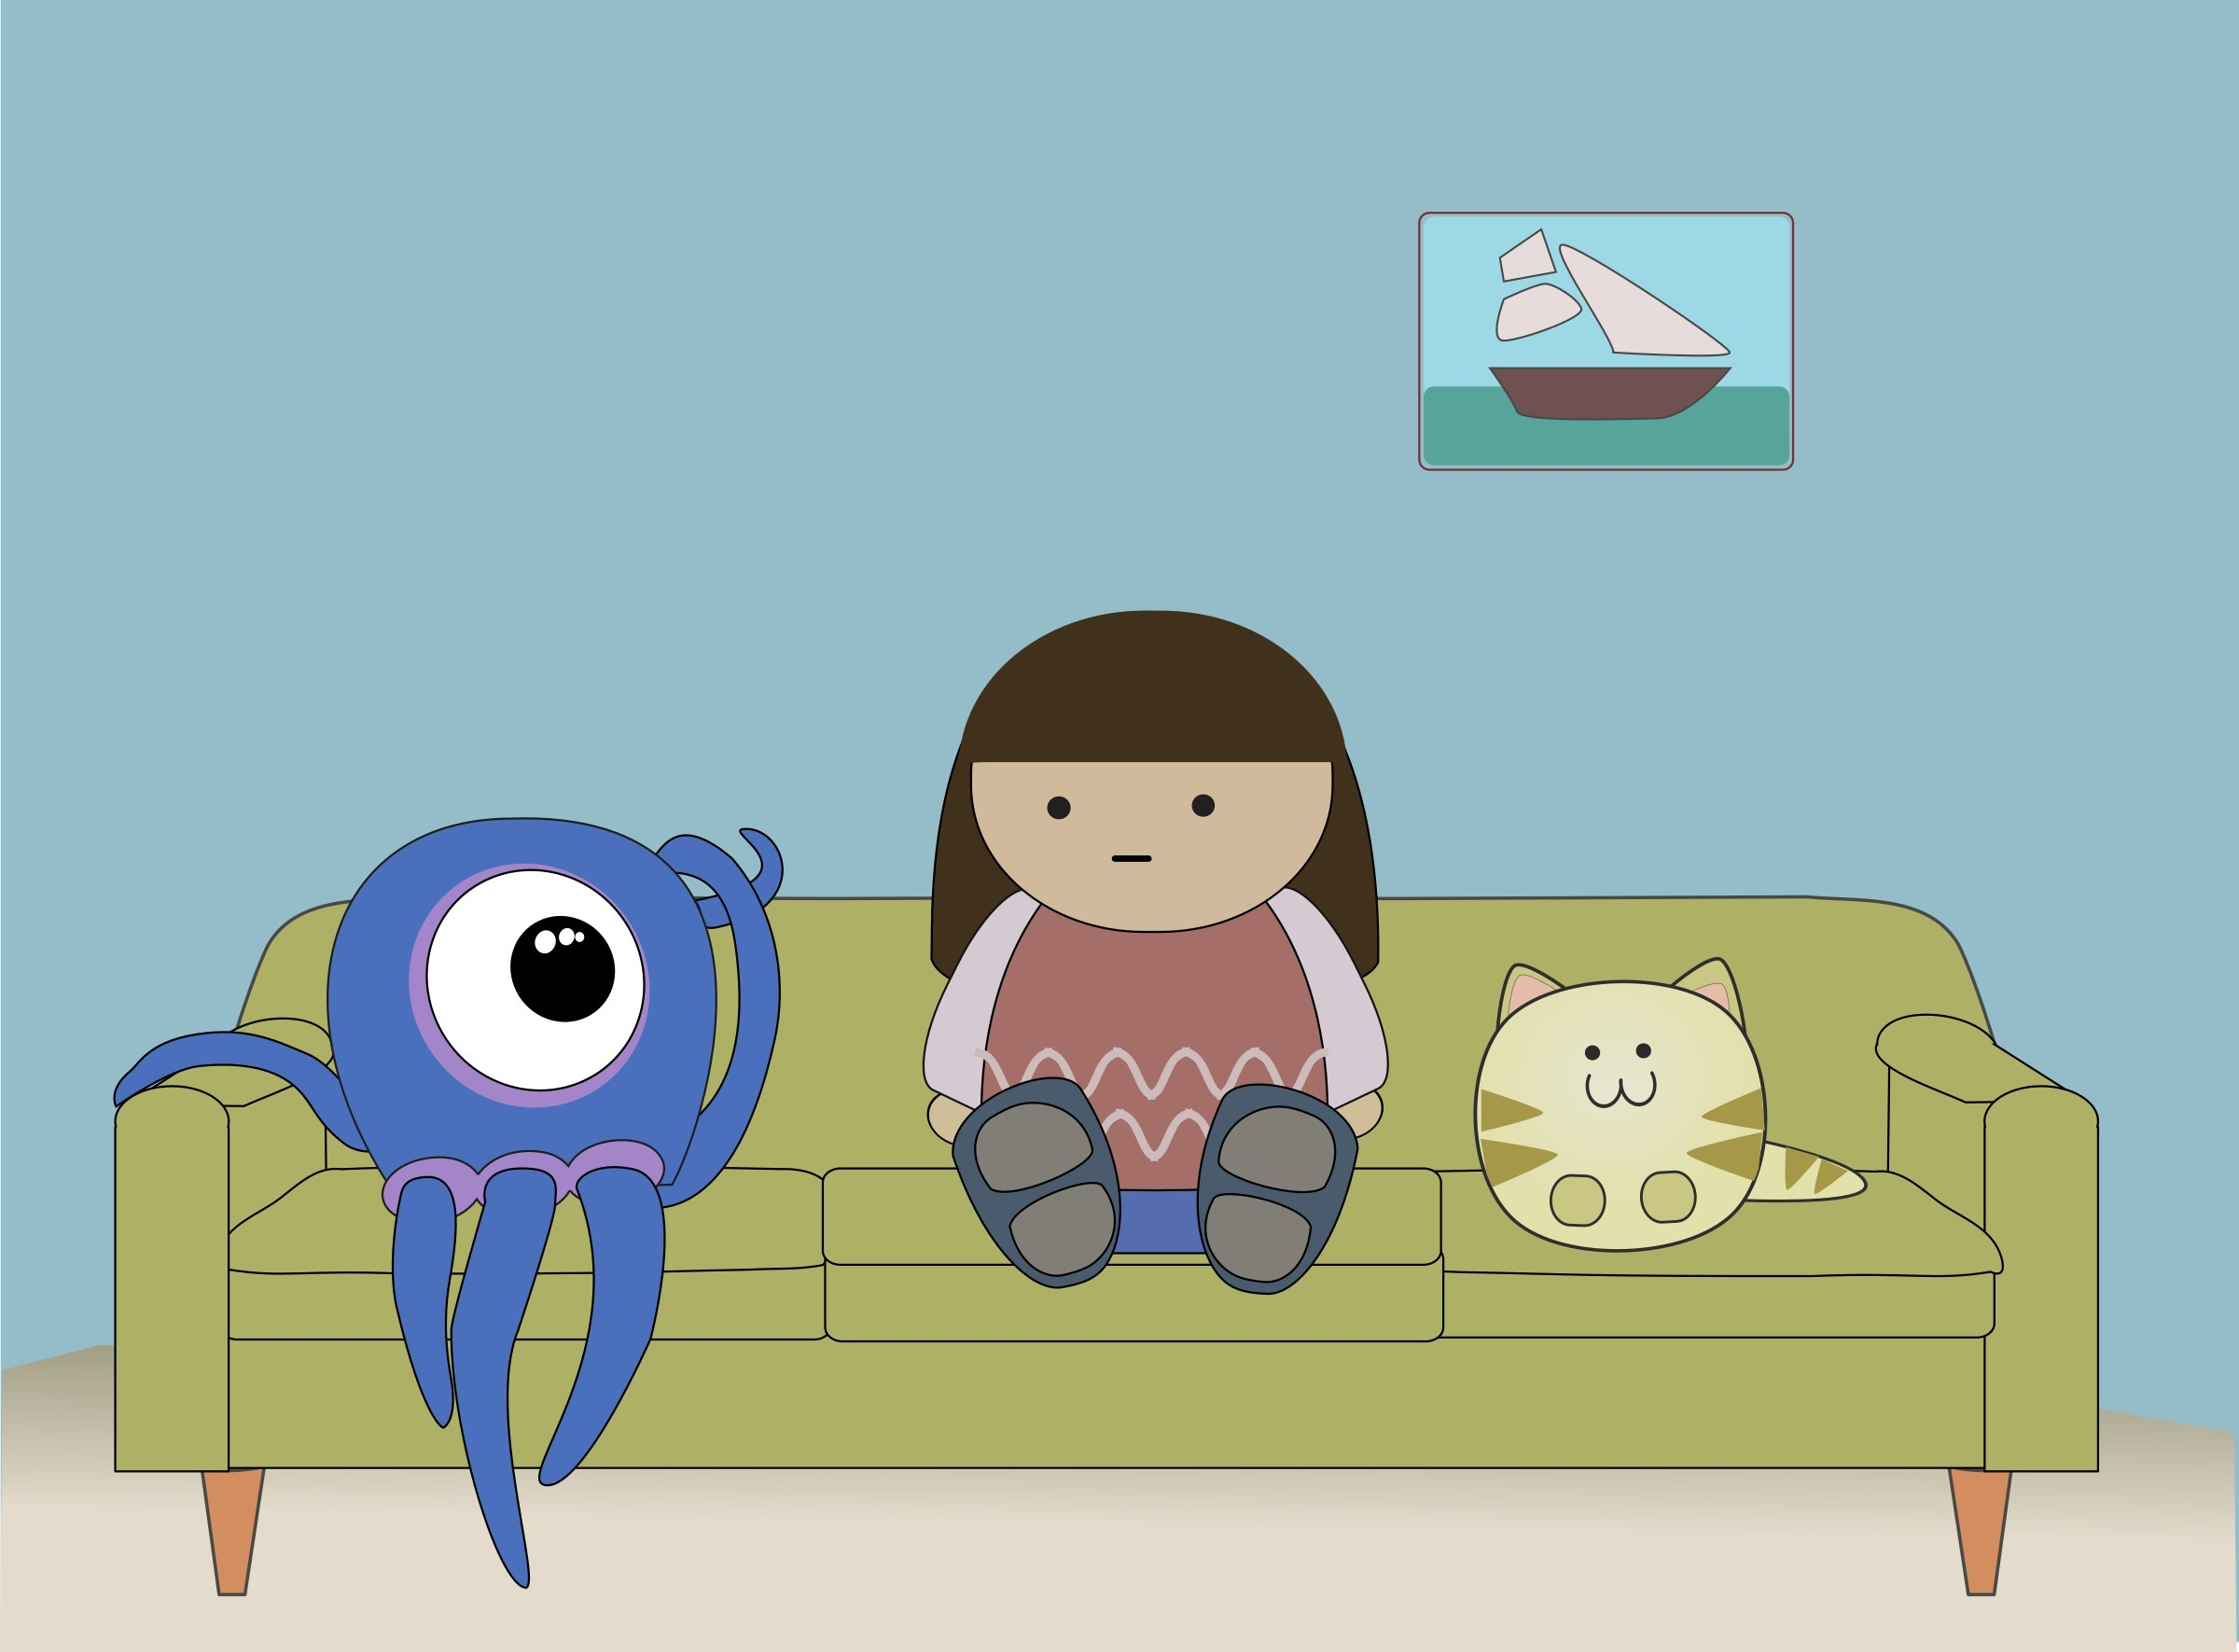boat: (1481, 223, 1737, 423)
cat: (1460, 952, 1876, 1263)
person: (893, 593, 1414, 1297)
sofa: (101, 873, 2108, 1610)
